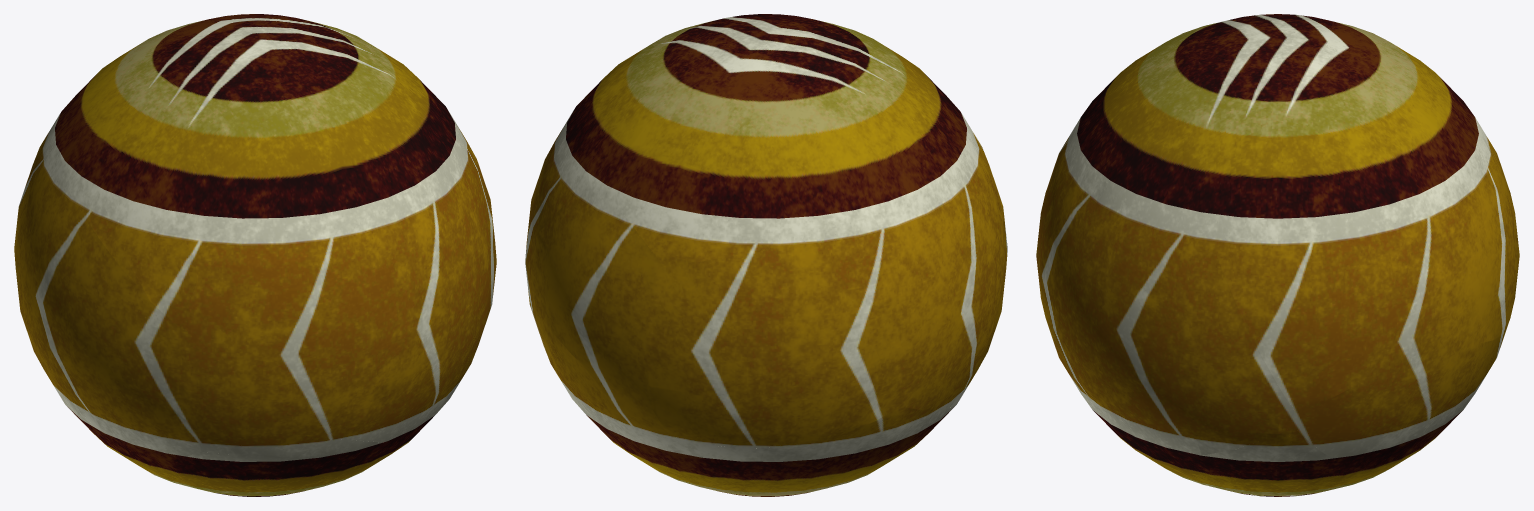
Rendered from 04-ball-braked.fbx.
3 renders of one model, left to right at view 1: azimuth 30°, elevation 25°; view 2: azimuth 150°, elevation 25°; view 3: azimuth 270°, elevation 25°, orthographic.
Parts seen in each view (by area): view 1: 8.break.003, 8.break.004, 8.break.015, 8.break.013, 8.break.014, 8.break.001, 8.break.012, 8.break.010, 8.break.011, 8.break.007, 8.break.008; view 2: 8.break, 8.break.011, 8.break.015, 8.break.002, 8.break.013, 8.break.008, 8.break.007, 8.break.016, 8.break.005, 8.break.001, 8.break.010, 8.break.004; view 3: 8.break.014, 8.break.005, 8.break.007, 8.break.001, 8.break.016, 8.break.002, 8.break.004, 8.break.011, 8.break.012, 8.break.006, 8.break.003, 8.break.010.
Boxes of the visible parts, left/top/right/bottom form: 8.break.003: left=180, top=187, right=432, bottom=455; 8.break.004: left=210, top=76, right=433, bottom=261; 8.break.015: left=15, top=122, right=200, bottom=459; 8.break.013: left=58, top=58, right=196, bottom=328; 8.break.014: left=347, top=119, right=496, bottom=442; 8.break.001: left=208, top=32, right=449, bottom=177; 8.break.012: left=172, top=426, right=424, bottom=496; 8.break.010: left=182, top=48, right=247, bottom=282; 8.break.011: left=49, top=14, right=239, bottom=133; 8.break.007: left=237, top=14, right=426, bottom=90; 8.break.008: left=32, top=346, right=192, bottom=487; 8.break: left=650, top=234, right=901, bottom=448; 8.break.011: left=610, top=47, right=851, bottom=267; 8.break.015: left=838, top=193, right=1007, bottom=410; 8.break.002: left=525, top=187, right=667, bottom=409; 8.break.013: left=823, top=67, right=1002, bottom=204; 8.break.008: left=665, top=404, right=956, bottom=496; 8.break.007: left=588, top=24, right=766, bottom=192; 8.break.016: left=526, top=273, right=671, bottom=459; 8.break.005: left=525, top=60, right=625, bottom=265; 8.break.001: left=679, top=14, right=830, bottom=54; 8.break.010: left=804, top=35, right=981, bottom=146; 8.break.004: left=798, top=16, right=956, bottom=107; 8.break.014: left=1040, top=183, right=1294, bottom=455; 8.break.005: left=1200, top=157, right=1457, bottom=410; 8.break.007: left=1221, top=33, right=1468, bottom=185; 8.break.001: left=1106, top=20, right=1295, bottom=203; 8.break.016: left=1292, top=334, right=1504, bottom=467; 8.break.002: left=1408, top=167, right=1519, bottom=350; 8.break.004: left=1060, top=27, right=1219, bottom=185; 8.break.011: left=1288, top=16, right=1502, bottom=173; 8.break.012: left=1102, top=419, right=1317, bottom=496; 8.break.006: left=1287, top=423, right=1412, bottom=492; 8.break.003: left=1036, top=148, right=1099, bottom=303; 8.break.010: left=1185, top=14, right=1294, bottom=32.
Size of the model in its own units: 100 by 100 by 100.
